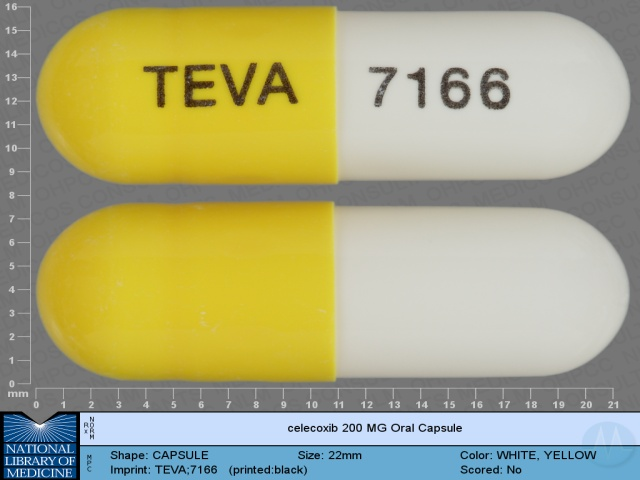1: (406, 64, 429, 113)
6: (477, 61, 511, 114), (439, 64, 473, 112)
7: (367, 61, 400, 114)
A: (258, 61, 299, 108)
E: (180, 61, 217, 115)
T: (141, 58, 182, 113)
V: (217, 59, 258, 109)
capsule: (33, 4, 633, 190), (36, 198, 632, 385)
